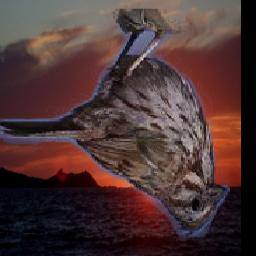Sparrow: (0, 9, 230, 241)
